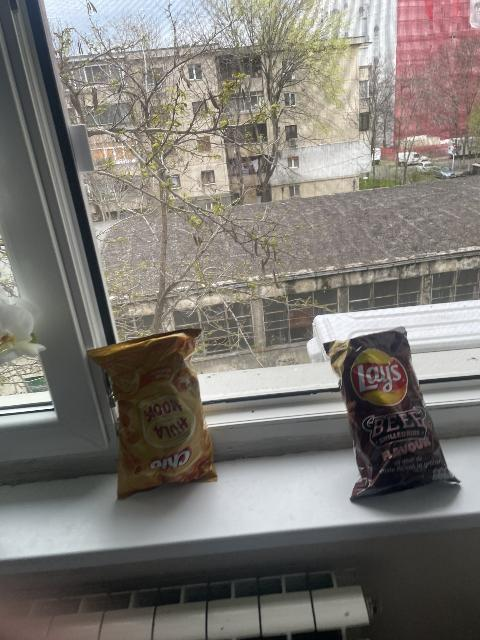Chio Hula Hoops Cheese 70g: (86, 330, 220, 498)
Lays Beef Grilled Ribs 125g: (329, 327, 461, 500)
